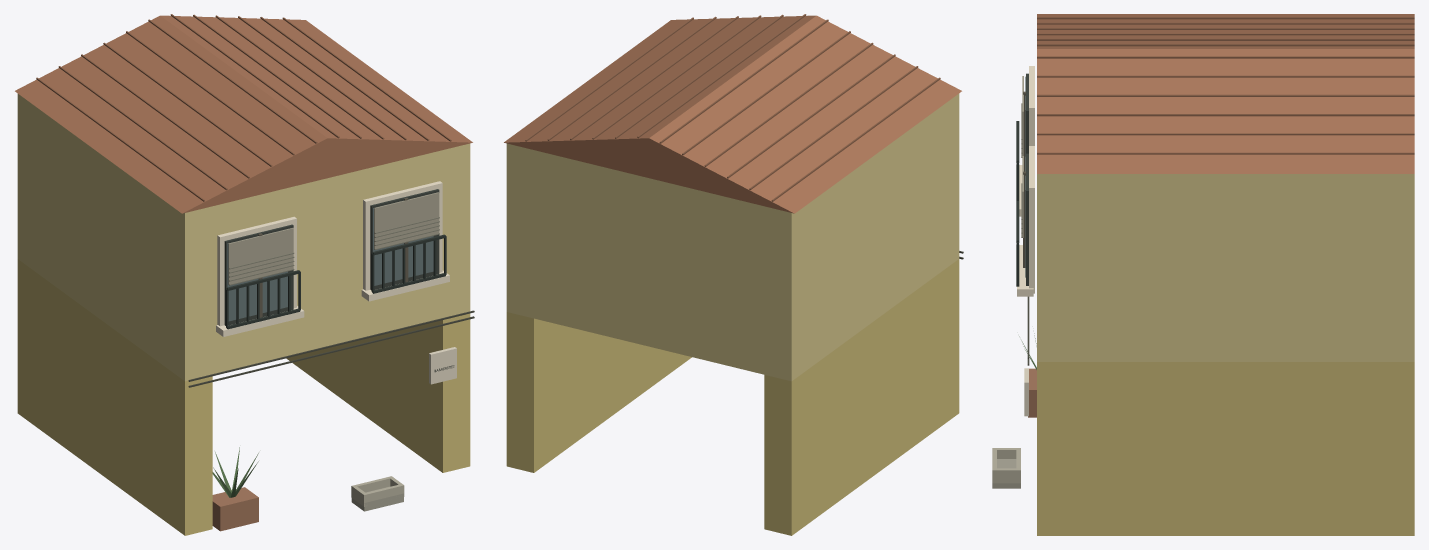
File: passage.glb
The picture shows the model from 3 angles, left to right: view 1: azimuth 30°, elevation 25°; view 2: azimuth 150°, elevation 25°; view 3: azimuth 270°, elevation 25°; orthographic projection. The views are drawn at different scales.
Parts seen in each view (by area): view 1: passage Town #e1d295, passage Town #ad795b.003, passage Town #d9c780, passage Town #94694f.003, passage Town #ada894, passage Town #f1e7d0, passage Town #6a7979.004, passage Town #343d38.002, passage Town #424943.004, passage Town #a5795e, passage Town #4f5044, passage Town #898777 (+3 smaller); view 2: passage Town #e1d295, passage Town #ad795b.003, passage Town #d9c780, passage Town #94694f.003; view 3: passage Town #e1d295, passage Town #d9c780, passage Town #ad795b.003, passage Town #94694f.003, passage Town #f1e7d0, passage Town #bbb6a3, passage Town #343d38.002, passage Town #424943.004.
Part boxes in pixels (x1,y1,x2,y2): passage Town #e1d295: (17, 94, 470, 381); passage Town #ad795b.003: (15, 15, 472, 213); passage Town #d9c780: (17, 259, 470, 535); passage Town #94694f.003: (36, 14, 451, 201); passage Town #ada894: (228, 192, 439, 284); passage Town #f1e7d0: (216, 181, 449, 336); passage Town #6a7979.004: (227, 208, 433, 321); passage Town #343d38.002: (226, 234, 446, 329); passage Town #424943.004: (224, 189, 439, 325); passage Town #a5795e: (212, 487, 258, 531); passage Town #4f5044: (188, 310, 474, 387); passage Town #898777: (229, 217, 439, 285); passage Town #e1d295: (506, 93, 959, 381); passage Town #ad795b.003: (504, 15, 961, 213); passage Town #d9c780: (506, 259, 959, 535); passage Town #94694f.003: (525, 14, 940, 201); passage Town #e1d295: (1037, 174, 1414, 361); passage Town #d9c780: (1037, 362, 1414, 535); passage Town #ad795b.003: (1037, 14, 1414, 173); passage Town #94694f.003: (1037, 17, 1414, 154); passage Town #f1e7d0: (1017, 66, 1034, 296); passage Town #bbb6a3: (992, 448, 1020, 483); passage Town #343d38.002: (1016, 121, 1019, 286); passage Town #424943.004: (1026, 73, 1028, 285).
Size of the model in its own units: 5.72 by 6.81 by 6.37.
